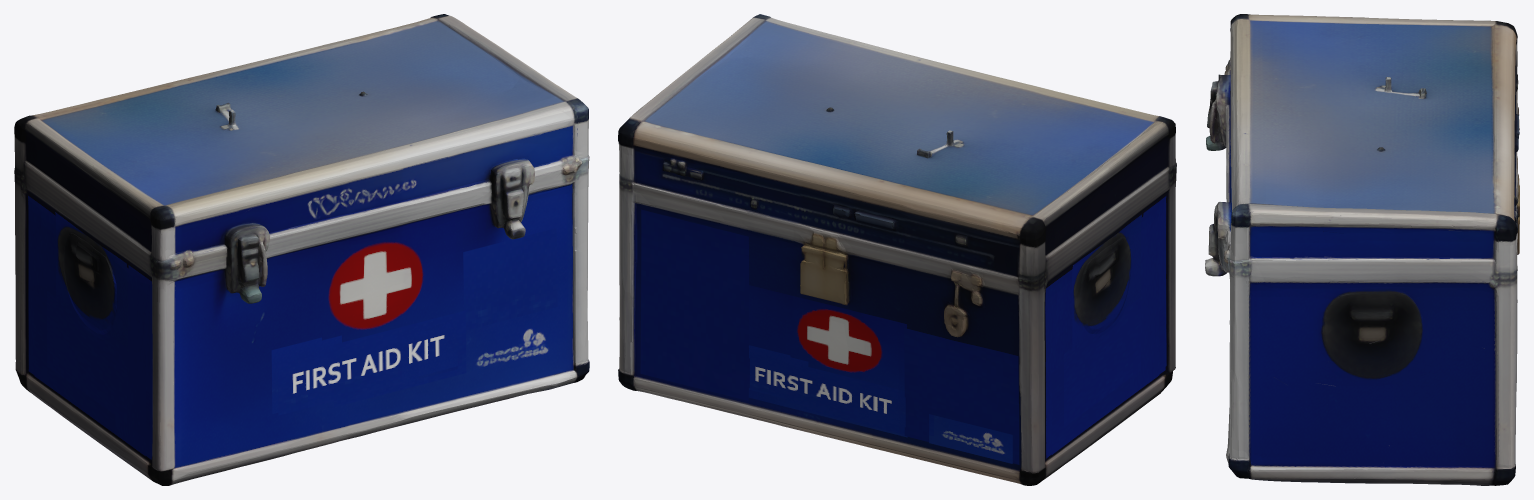
Rendered from first_aid_kit.dae.
3 renders of one model, left to right at view 1: azimuth 30°, elevation 25°; view 2: azimuth 150°, elevation 25°; view 3: azimuth 270°, elevation 25°, orthographic. The views are drawn at different scales.
Parts seen in each view (by area): view 1: world; view 2: world; view 3: world.
Part boxes in pixels (box(x1,y1,x2,y2)): world: box(14, 14, 589, 485); world: box(618, 14, 1176, 485); world: box(1205, 14, 1519, 485).
Size of the model in its own units: 0.9976 by 0.6336 by 0.6449.
